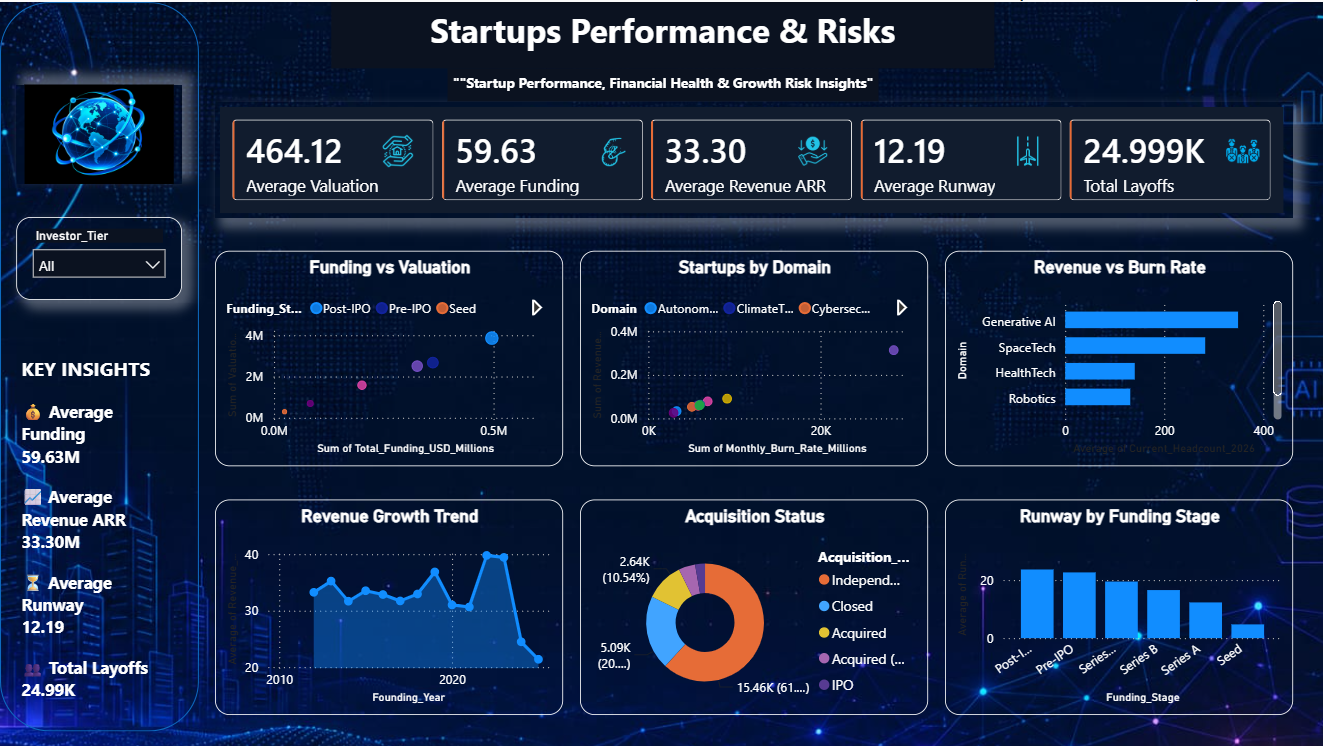

The page's visual inventory and layout, read from the dashboard file:
{"tool":"powerbi","page":{"name":"Performance & Risk Analysis","canvas":[1280,720],"ordinal":1},"visuals":[{"type":"textbox","box":[320,0,640,64],"z":0},{"type":"cardVisual","fields":{"Data":["Avg(global_tech_startups_cleaned.Valuation_USD_Millions)","Avg(global_tech_startups_cleaned.Total_Funding_USD_Millions)","Avg(global_tech_startups_cleaned.Revenue_ARR_Millions)","Avg(global_tech_startups_cleaned.Runway_Months_2024)","CountNonNull(global_tech_startups_cleaned.Layoffs_2024_2025)"]},"box":[208,96,1040,112],"z":1000},{"type":"scatterChart","title":"Funding vs Valuation","fields":{"X":["Sum(global_tech_startups_cleaned.Total_Funding_USD_Millions)"],"Y":["Sum(global_tech_startups_cleaned.Valuation_USD_Millions)"],"Size":["Sum(global_tech_startups_cleaned.Revenue_ARR_Millions)"],"Series":["global_tech_startups_cleaned.Funding_Stage"]},"box":[208,240,336,208],"z":2000},{"type":"scatterChart","title":"Startups by Domain","fields":{"X":["Sum(global_tech_startups_cleaned.Monthly_Burn_Rate_Millions)"],"Series":["global_tech_startups_cleaned.Domain"],"Y":["Sum(global_tech_startups_cleaned.Revenue_ARR_Millions)"]},"box":[560,240,336,208],"z":3000},{"type":"clusteredBarChart","title":"Revenue vs Burn Rate","fields":{"Category":["global_tech_startups_cleaned.Domain"],"Y":["Avg(global_tech_startups_cleaned.Current_Headcount_2026)"]},"box":[912,240,336,208],"z":4000},{"type":"donutChart","title":"Acquisition Status","fields":{"Category":["global_tech_startups_cleaned.Acquisition_Status"],"Y":["CountNonNull(global_tech_startups_cleaned.Company_ID)"]},"box":[560,480,336,208],"z":5000},{"type":"clusteredColumnChart","title":"Runway by Funding Stage","fields":{"Category":["global_tech_startups_cleaned.Funding_Stage"],"Y":["Avg(global_tech_startups_cleaned.Runway_Months_2024)"]},"box":[912,480,336,208],"z":6000},{"type":"shape","box":[0,0,192,704],"z":7000},{"type":"slicer","fields":{"Values":["global_tech_startups_cleaned.Investor_Tier"]},"box":[16,208,160,80],"z":8000},{"type":"image","box":[16,80,160,96],"z":9000},{"type":"lineChart","title":"Revenue Growth Trend","fields":{"Category":["global_tech_startups_cleaned.Founding_Year"],"Y":["Avg(global_tech_startups_cleaned.Revenue_ARR_Millions)"]},"box":[208,480,336,208],"z":10000},{"type":"textbox","box":[432,64,416,32],"z":11000},{"type":"image","box":[368,128,32,32],"z":12000},{"type":"image","box":[576,128,32,32],"z":13000},{"type":"image","box":[768,128,32,32],"z":14000},{"type":"image","box":[976,128,32,32],"z":15000},{"type":"image","box":[1184,128,32,32],"z":16000},{"type":"textbox","box":[16,336,160,352],"z":17000}]}

Visuals, with their boxes in screenshot pixels (x1, y1, x2, y2), scaled from the page's 1280x720 canvas onto the 1323x746 screenshot:
textbox: left=331, top=0, right=992, bottom=66
cardVisual - Avg(global_tech_startups_cleaned.Valuation_USD_Millions) x Avg(global_tech_startups_cleaned.Total_Funding_USD_Millions): left=215, top=99, right=1290, bottom=216
"Funding vs Valuation" scatterChart: left=215, top=249, right=562, bottom=464
"Startups by Domain" scatterChart: left=579, top=249, right=926, bottom=464
"Revenue vs Burn Rate" clusteredBarChart: left=943, top=249, right=1290, bottom=464
"Acquisition Status" donutChart: left=579, top=497, right=926, bottom=713
"Runway by Funding Stage" clusteredColumnChart: left=943, top=497, right=1290, bottom=713
shape: left=0, top=0, right=198, bottom=729
slicer - global_tech_startups_cleaned.Investor_Tier: left=17, top=216, right=182, bottom=298
image: left=17, top=83, right=182, bottom=182
"Revenue Growth Trend" lineChart: left=215, top=497, right=562, bottom=713
textbox: left=447, top=66, right=876, bottom=99
image: left=380, top=133, right=413, bottom=166
image: left=595, top=133, right=628, bottom=166
image: left=794, top=133, right=827, bottom=166
image: left=1009, top=133, right=1042, bottom=166
image: left=1224, top=133, right=1257, bottom=166
textbox: left=17, top=348, right=182, bottom=713
